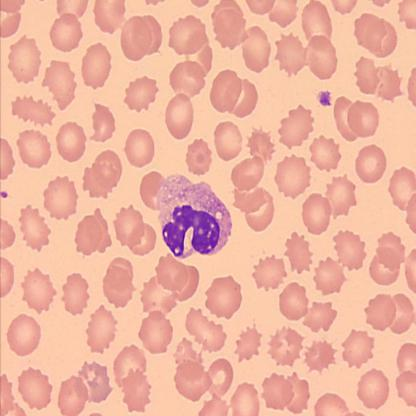Band Neutrophil: (154, 170, 233, 262)
